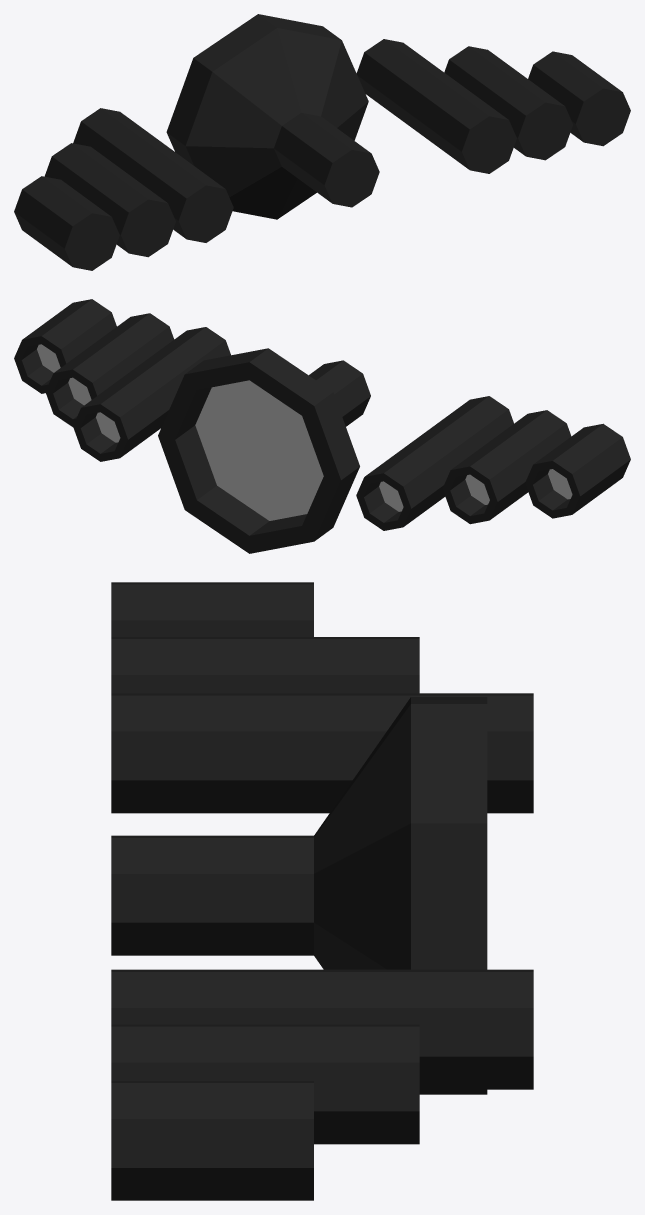
The model's file is exhaust4.glb.
3 renders of one model, top to bottom at view 1: azimuth 30°, elevation 25°; view 2: azimuth 150°, elevation 25°; view 3: azimuth 270°, elevation 25°, orthographic. The views are drawn at different scales.
Parts seen in each view (by area): view 1: exhaust4; view 2: exhaust4; view 3: exhaust4.
Boxes of the visible parts, <box> form: exhaust4: <box>14,14,630,270</box>; exhaust4: <box>14,299,630,553</box>; exhaust4: <box>111,582,533,1200</box>.
Bounding box in the file's own units: 2.23 × 0.7221 × 0.7213.
Materials: 1 (1 with a texture image).
